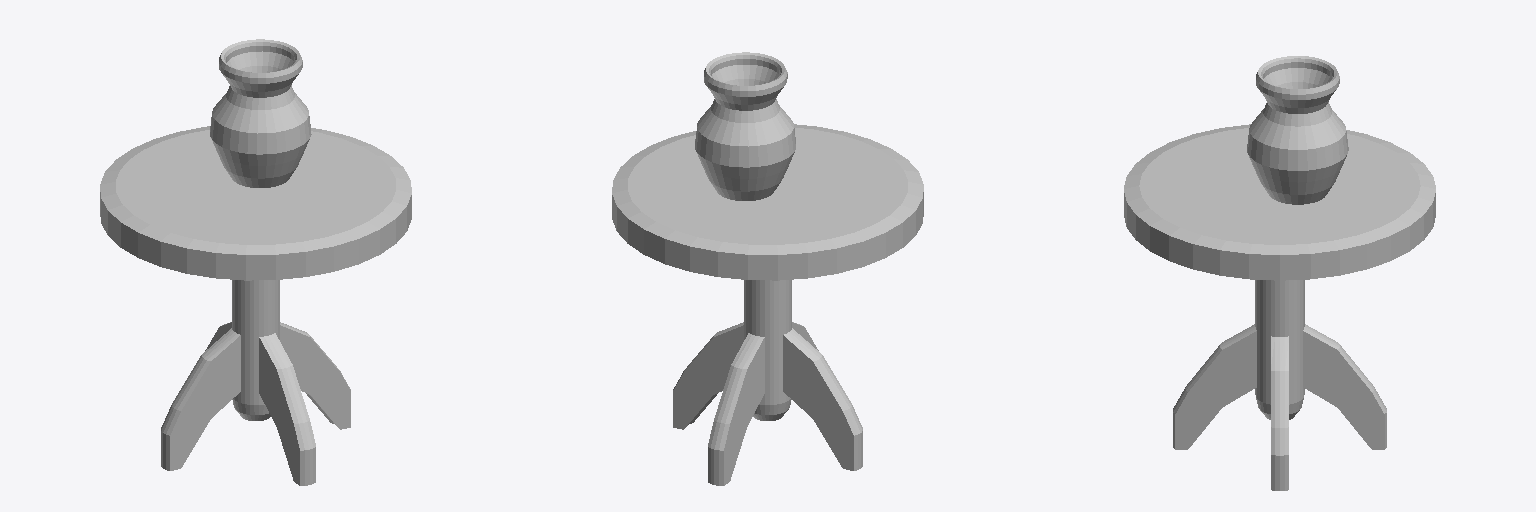
The model's file is Mini Table.obj.
3 renders of one model, left to right at view 1: azimuth 30°, elevation 25°; view 2: azimuth 150°, elevation 25°; view 3: azimuth 270°, elevation 25°, orthographic.
Visible parts, largest first — view 1: Cylinder, Circle; view 2: Cylinder, Circle; view 3: Cylinder, Circle.
Boxes of the visible parts, box(x1,y1,x2,y2) form: Cylinder: box(100, 126, 411, 485); Circle: box(210, 39, 311, 187); Cylinder: box(612, 124, 923, 485); Circle: box(695, 52, 795, 200); Cylinder: box(1124, 124, 1435, 490); Circle: box(1247, 56, 1348, 204).
Size of the model in its own units: 1.31 by 1.76 by 1.31.